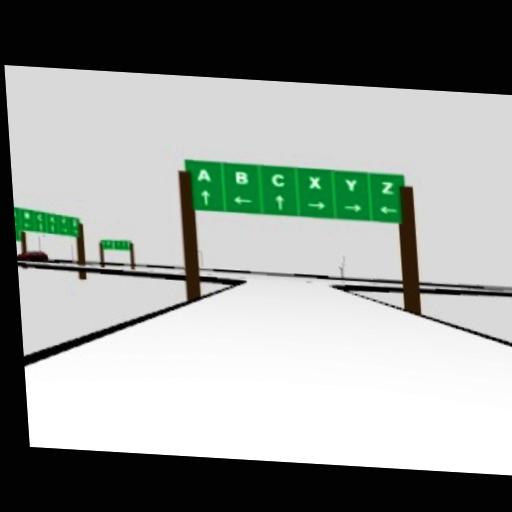A: (195, 168, 211, 182), (14, 209, 16, 217)
B: (234, 171, 248, 185), (22, 211, 29, 220)
C: (270, 173, 286, 187)
Left: (233, 195, 252, 204), (378, 205, 397, 214)
Right: (306, 200, 325, 210), (342, 203, 361, 212)
Straight: (274, 195, 285, 211), (200, 190, 211, 205)
X: (307, 175, 321, 189), (35, 212, 42, 223)
Y: (344, 177, 356, 191)
Z: (32, 212, 44, 233), (380, 180, 394, 194), (69, 217, 78, 236), (73, 217, 80, 228), (48, 214, 55, 224), (49, 222, 55, 232), (60, 217, 67, 225), (15, 218, 19, 229)
